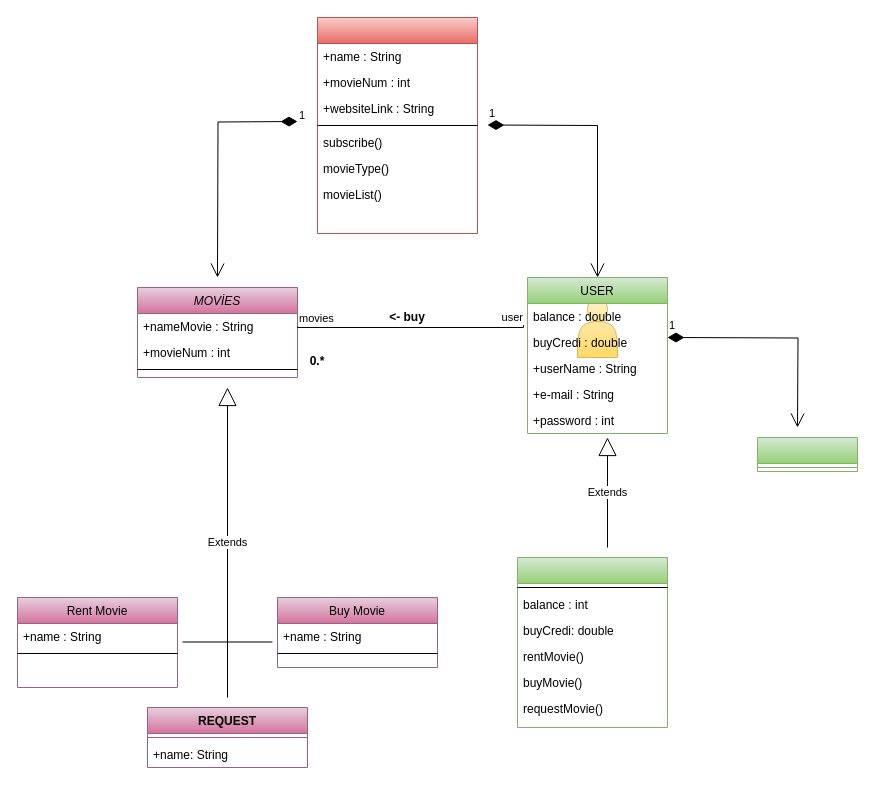
This 875x788 diagram has some shape labels left out. Here are the shapes that lost their labels. From the top down, the box of each, then its label:
(316, 16, 478, 234): ONLİNE MOVİE SİTE
(756, 436, 858, 472): BUY CREDİ
(516, 556, 668, 728): SUBSCRİBER
